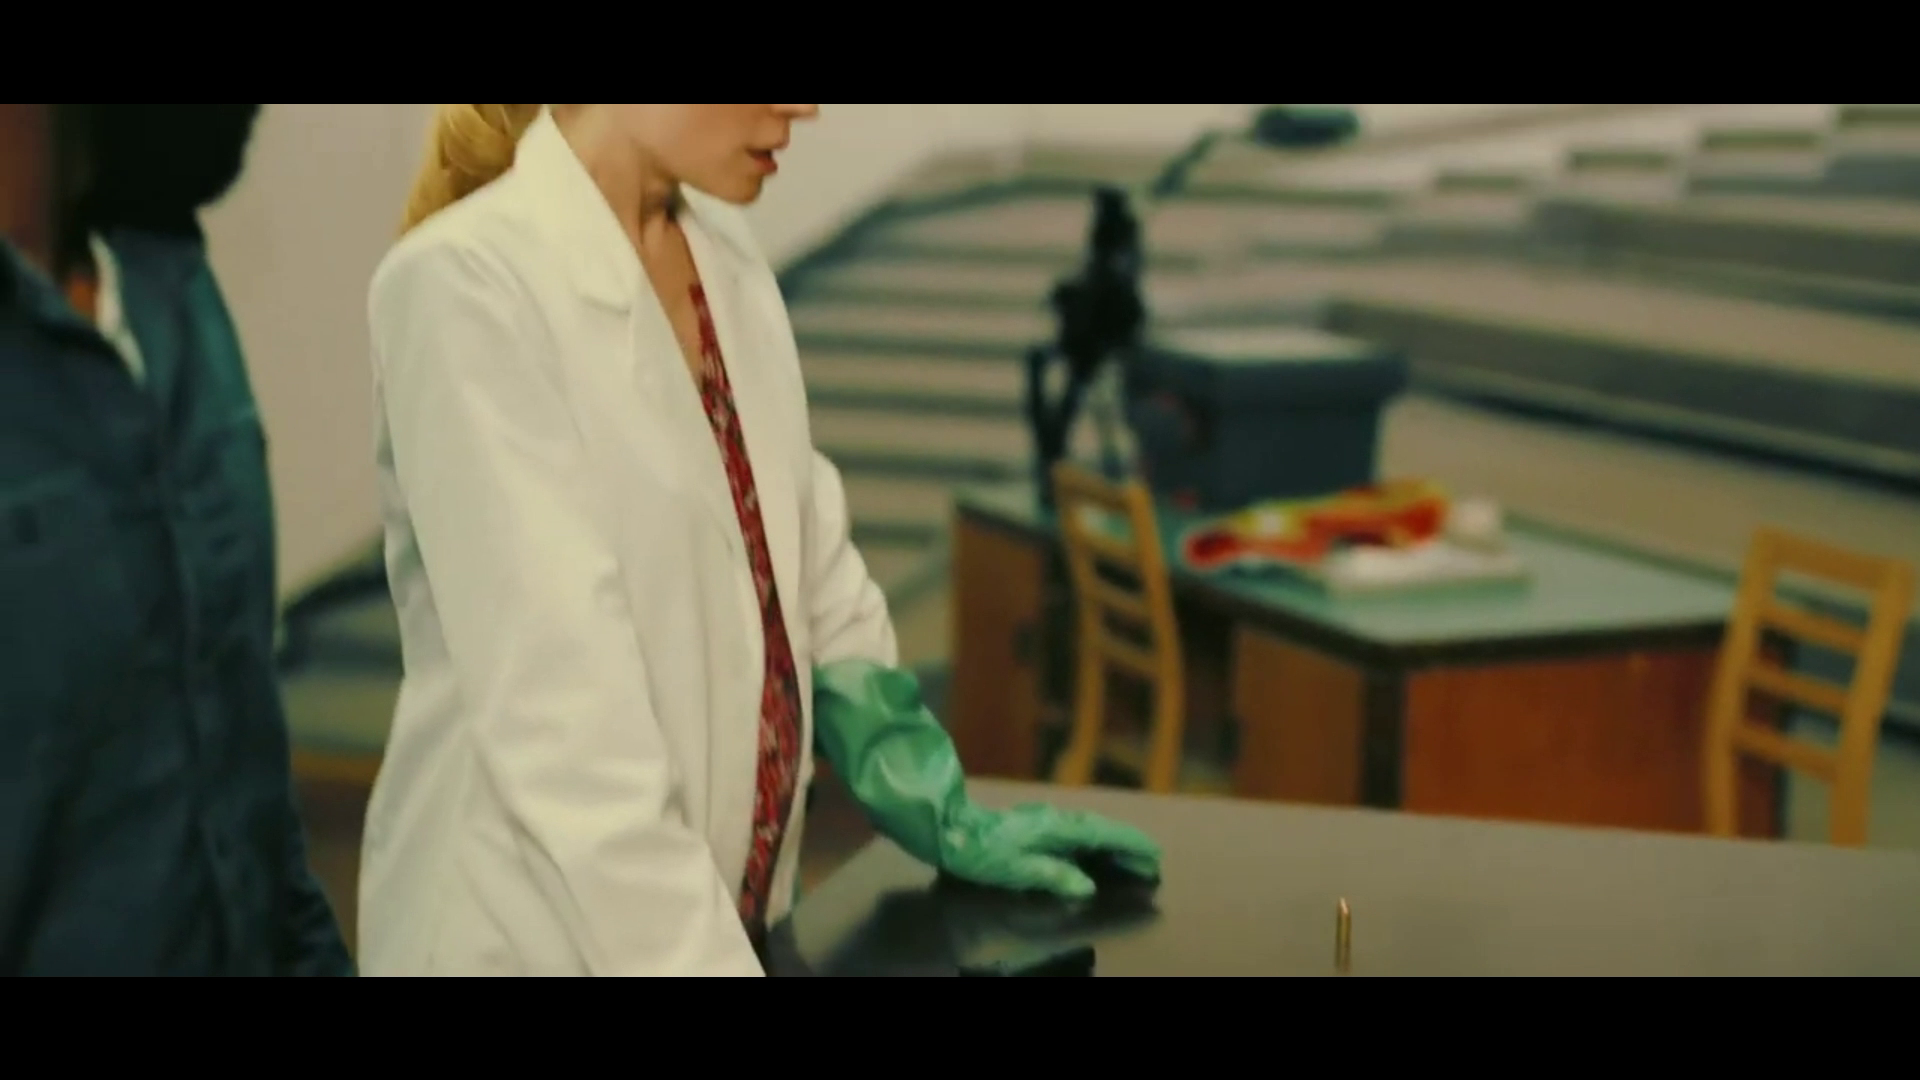Bullet: (1335, 897, 1354, 949)
